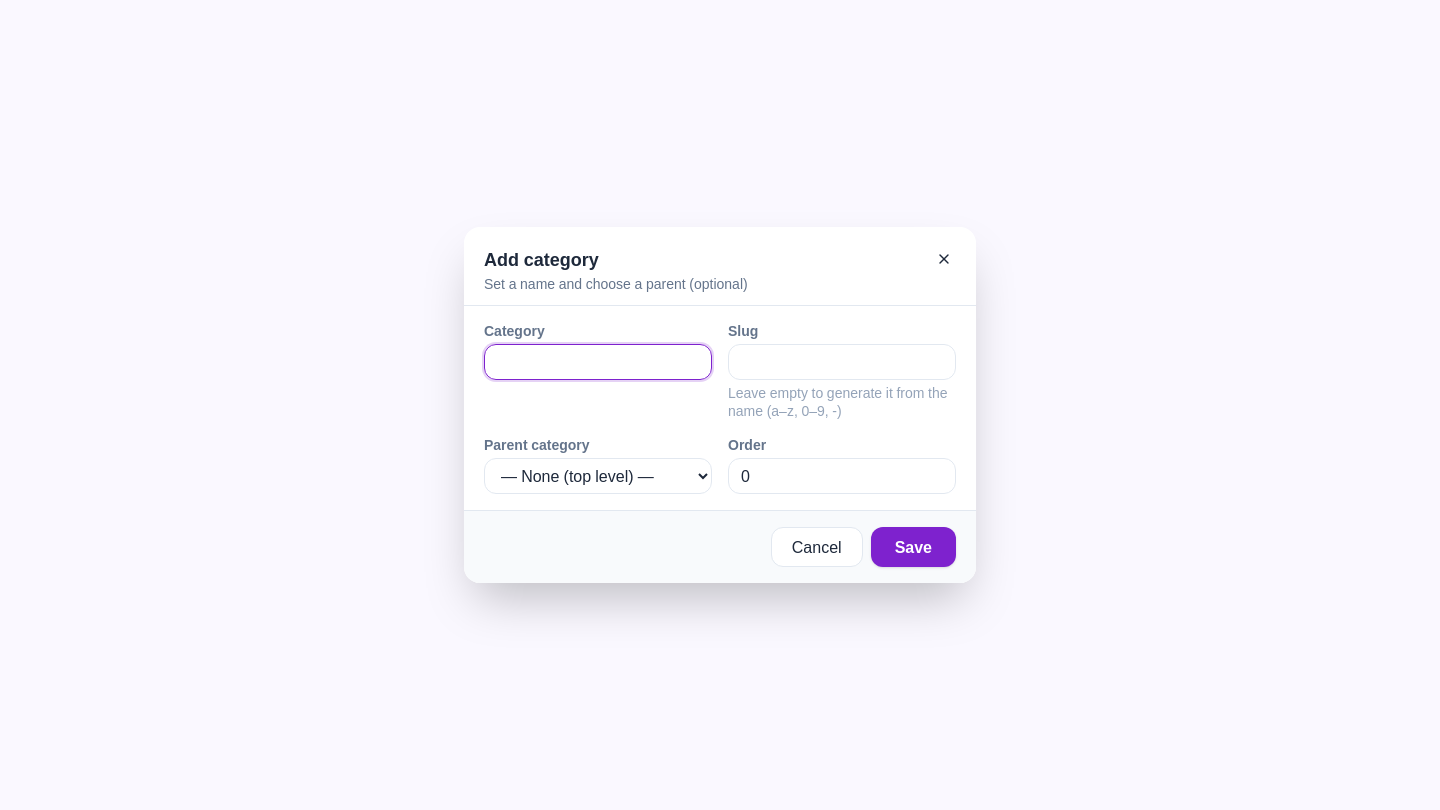
Test: CategoryFormDialog › slug ຊ້ຳ (DUPLICATE_VALUE) ສະແດງຂໍ້ຄວາມແປ ແລະ ບໍ່ປິດ
The width and height of the screenshot is (1440, 810).
Type "X" into the field labelled "Category". click: coordinates (598, 362)
box: top-left (484, 344), bottom-right (712, 380)
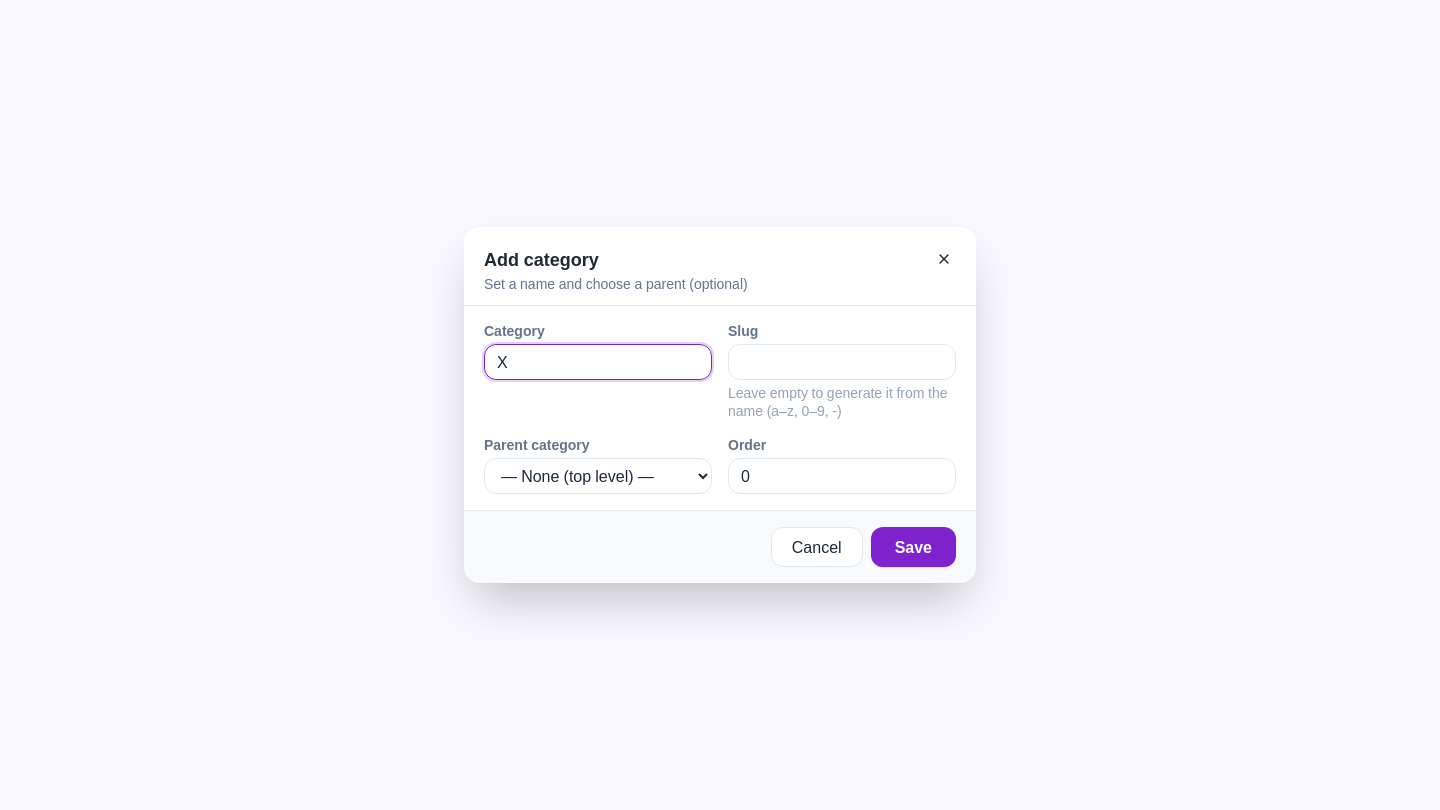
Click the button "Save". click: coordinates (913, 547)
box: top-left (871, 527), bottom-right (956, 567)
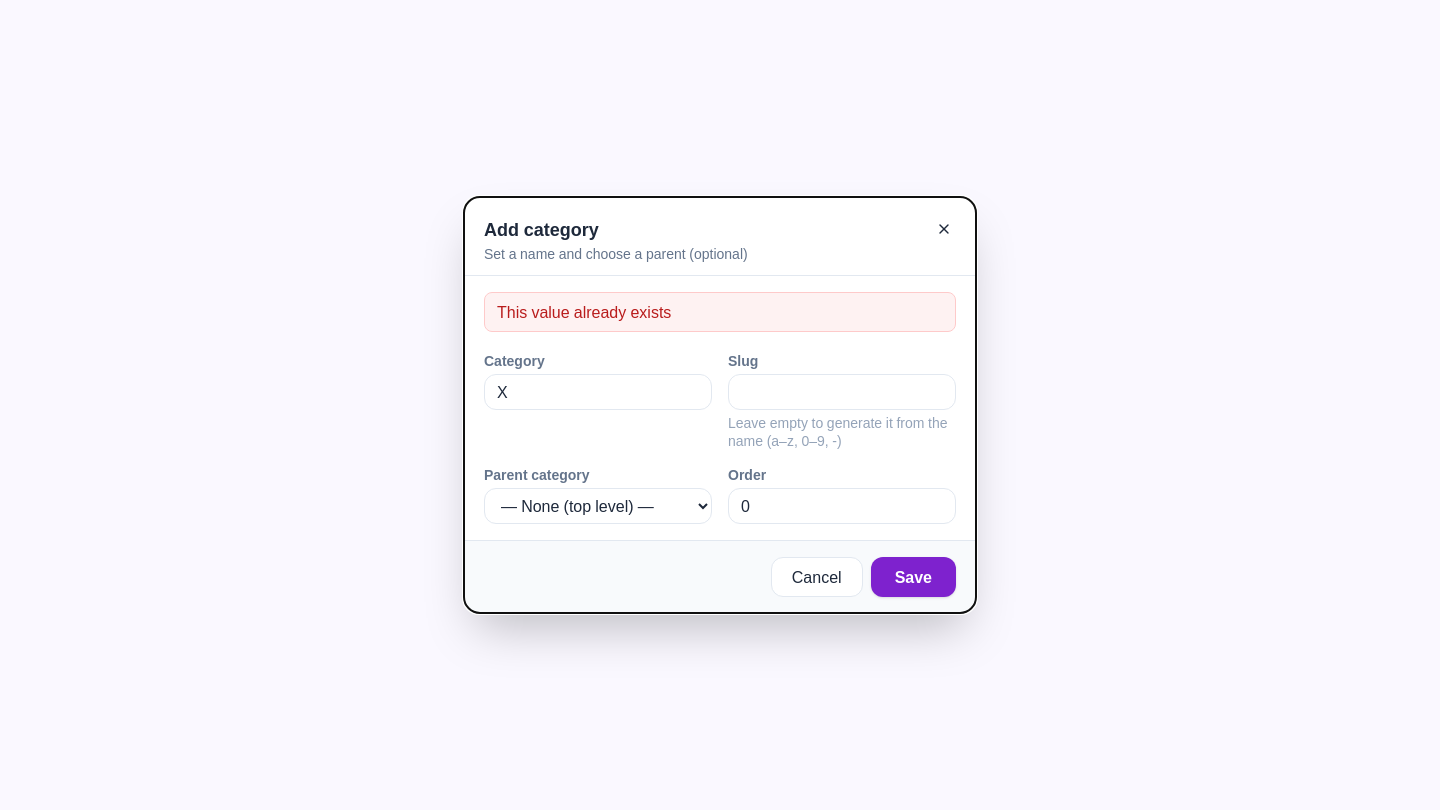
Now the message reads "This value already exists", box top-left (497, 299), bottom-right (671, 325)
